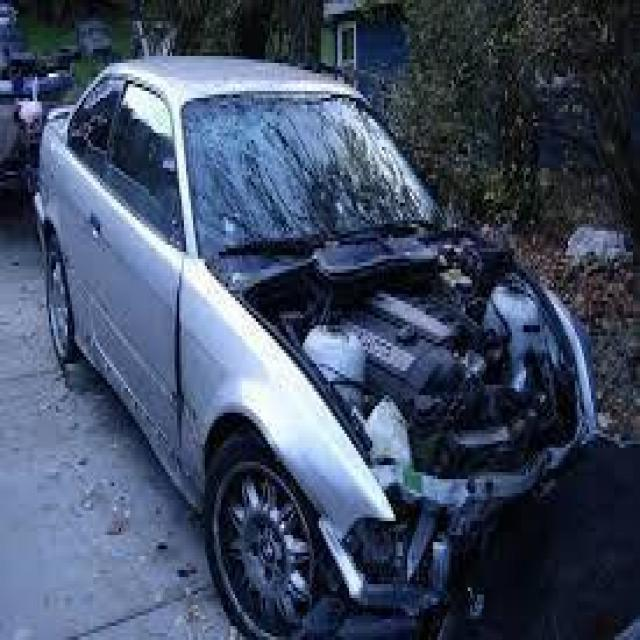damaged: (204, 224, 594, 612), (172, 272, 186, 454)
